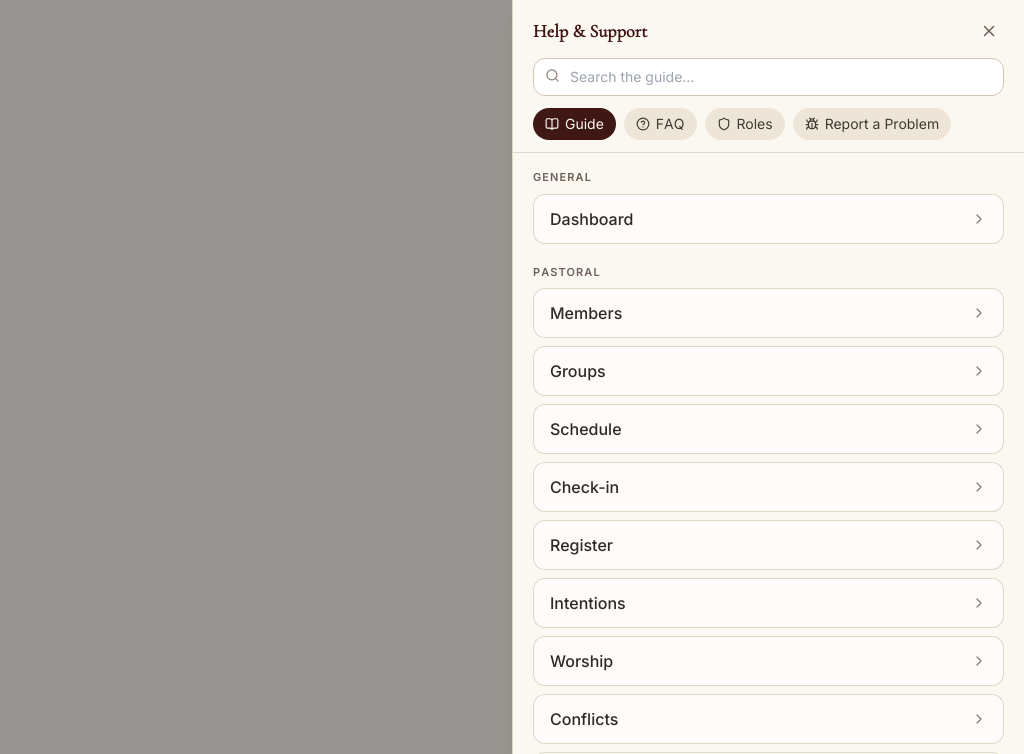
SP-065 how to mark an intention fulfilled › search finds the how-to in the active language
Step 1. Type "does not change the offering" into the field with placeholder "Search the guide…" → (768, 77), box [533,58,1004,96]
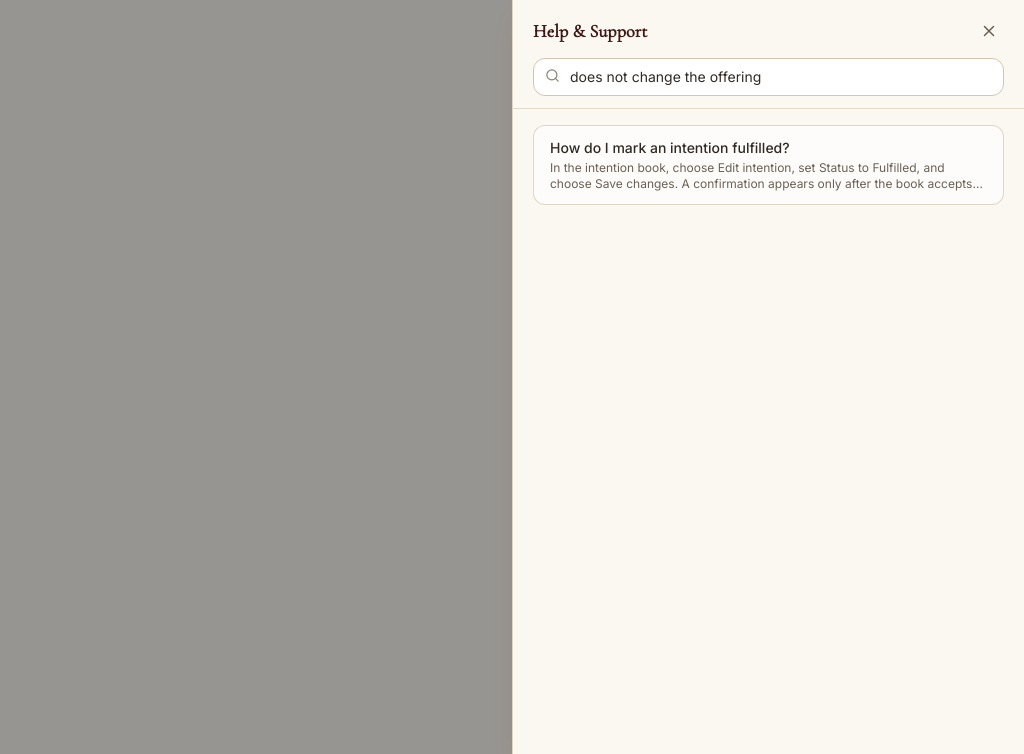
Expected: the text "How do I mark an intention fulfilled?" is shown, [550,139,790,156]
